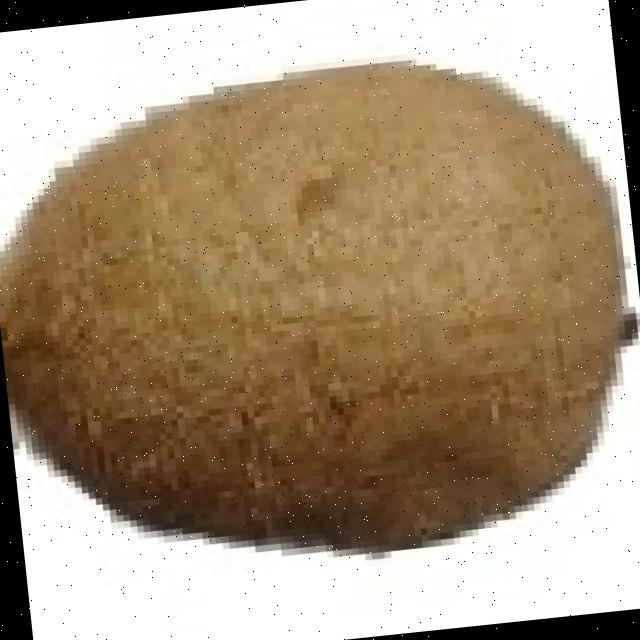kiwi: (4, 58, 630, 539)
